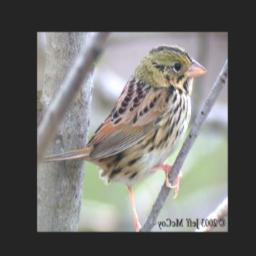Sparrow: (39, 43, 208, 229)
